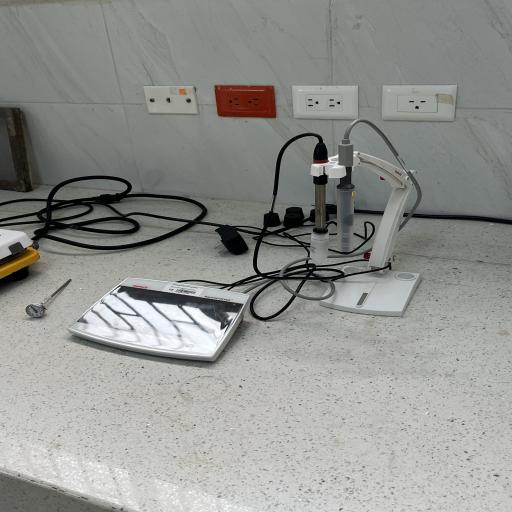Phmetro_Ohaus: (58, 268, 280, 370)
